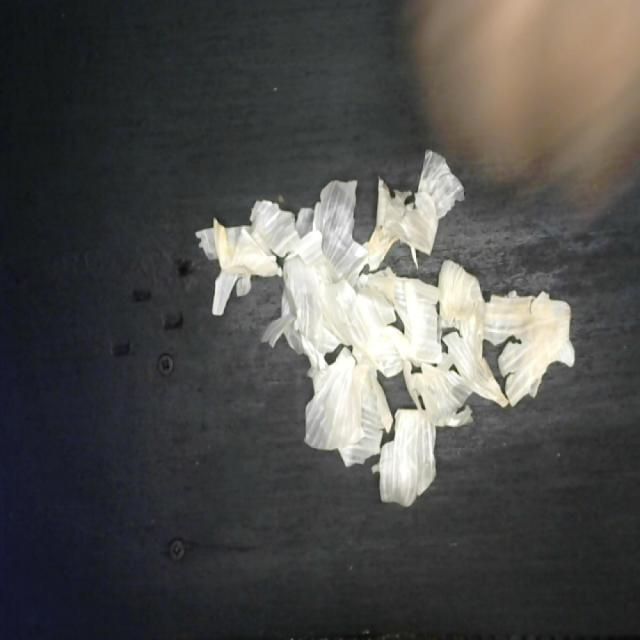biodegradable: (190, 142, 580, 508)
